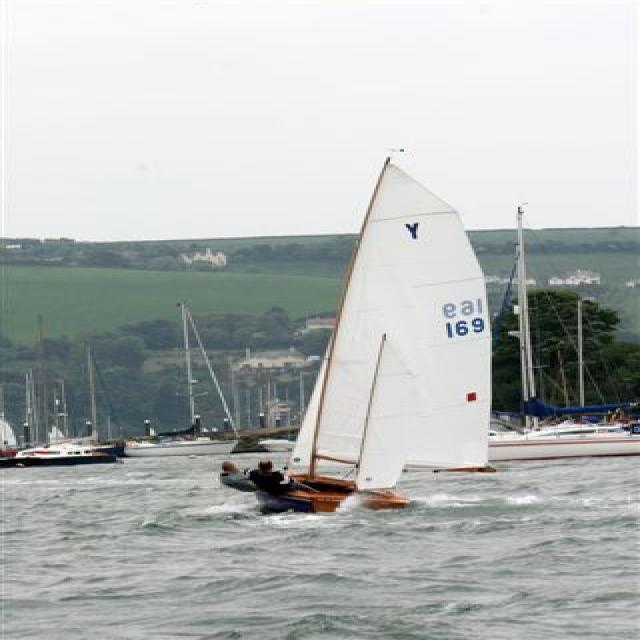Ship: (239, 153, 543, 526)
